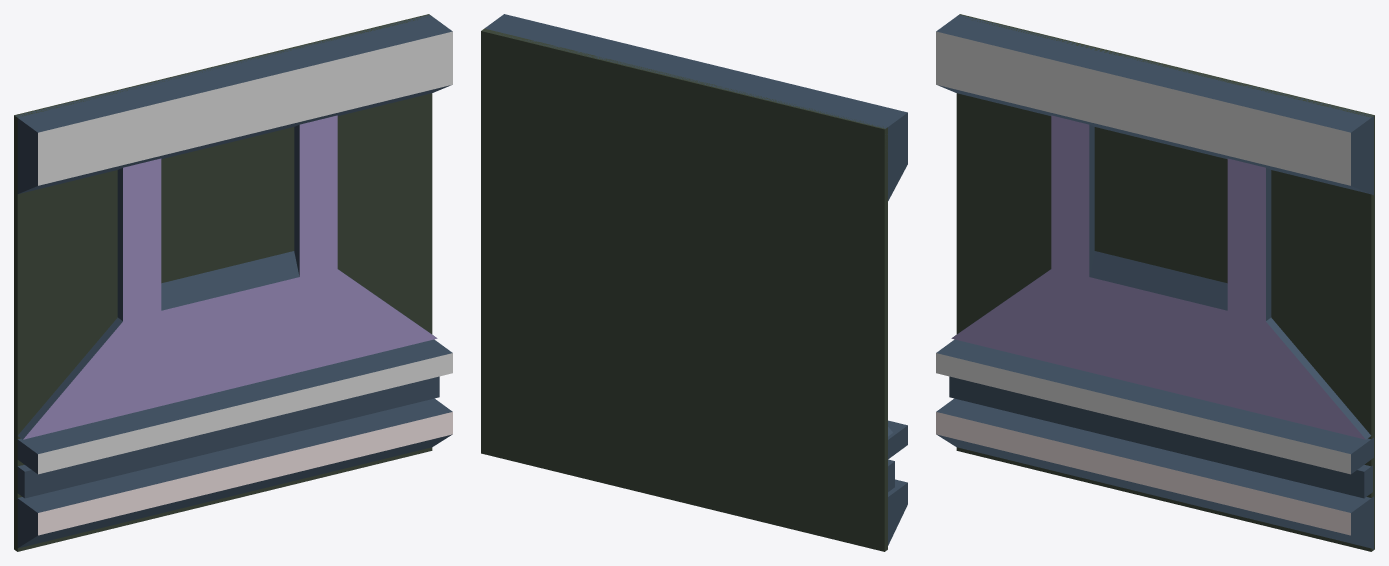
File: Environment_Wall_3.fbx
3 renders of one model, left to right at view 1: azimuth 30°, elevation 25°; view 2: azimuth 150°, elevation 25°; view 3: azimuth 330°, elevation 25°, orthographic. The views are drawn at different scales.
Parts seen in each view (by area): view 1: Wall_3; view 2: Wall_3; view 3: Wall_3.
Boxes of the visible parts, x1=… form: Wall_3: x1=14, y1=14, x2=452, y2=551; Wall_3: x1=481, y1=14, x2=907, y2=551; Wall_3: x1=936, y1=14, x2=1374, y2=551.
Bounding box in the file's own units: 400 × 400 × 39.89.
